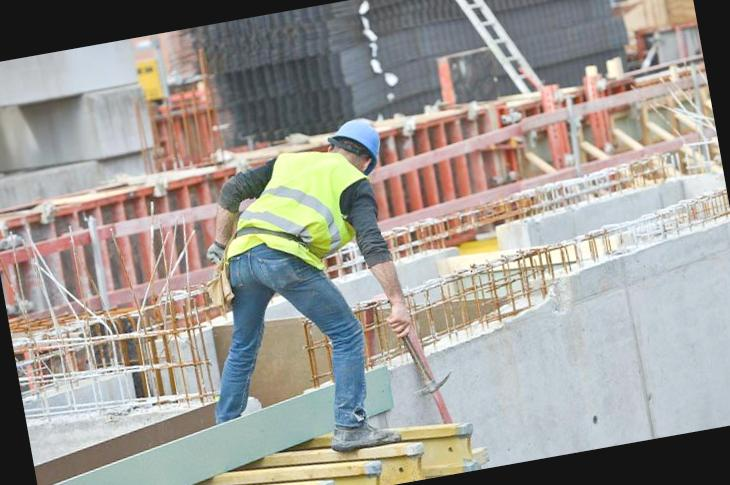helmet: (324, 113, 383, 164)
person: (186, 110, 438, 470)
